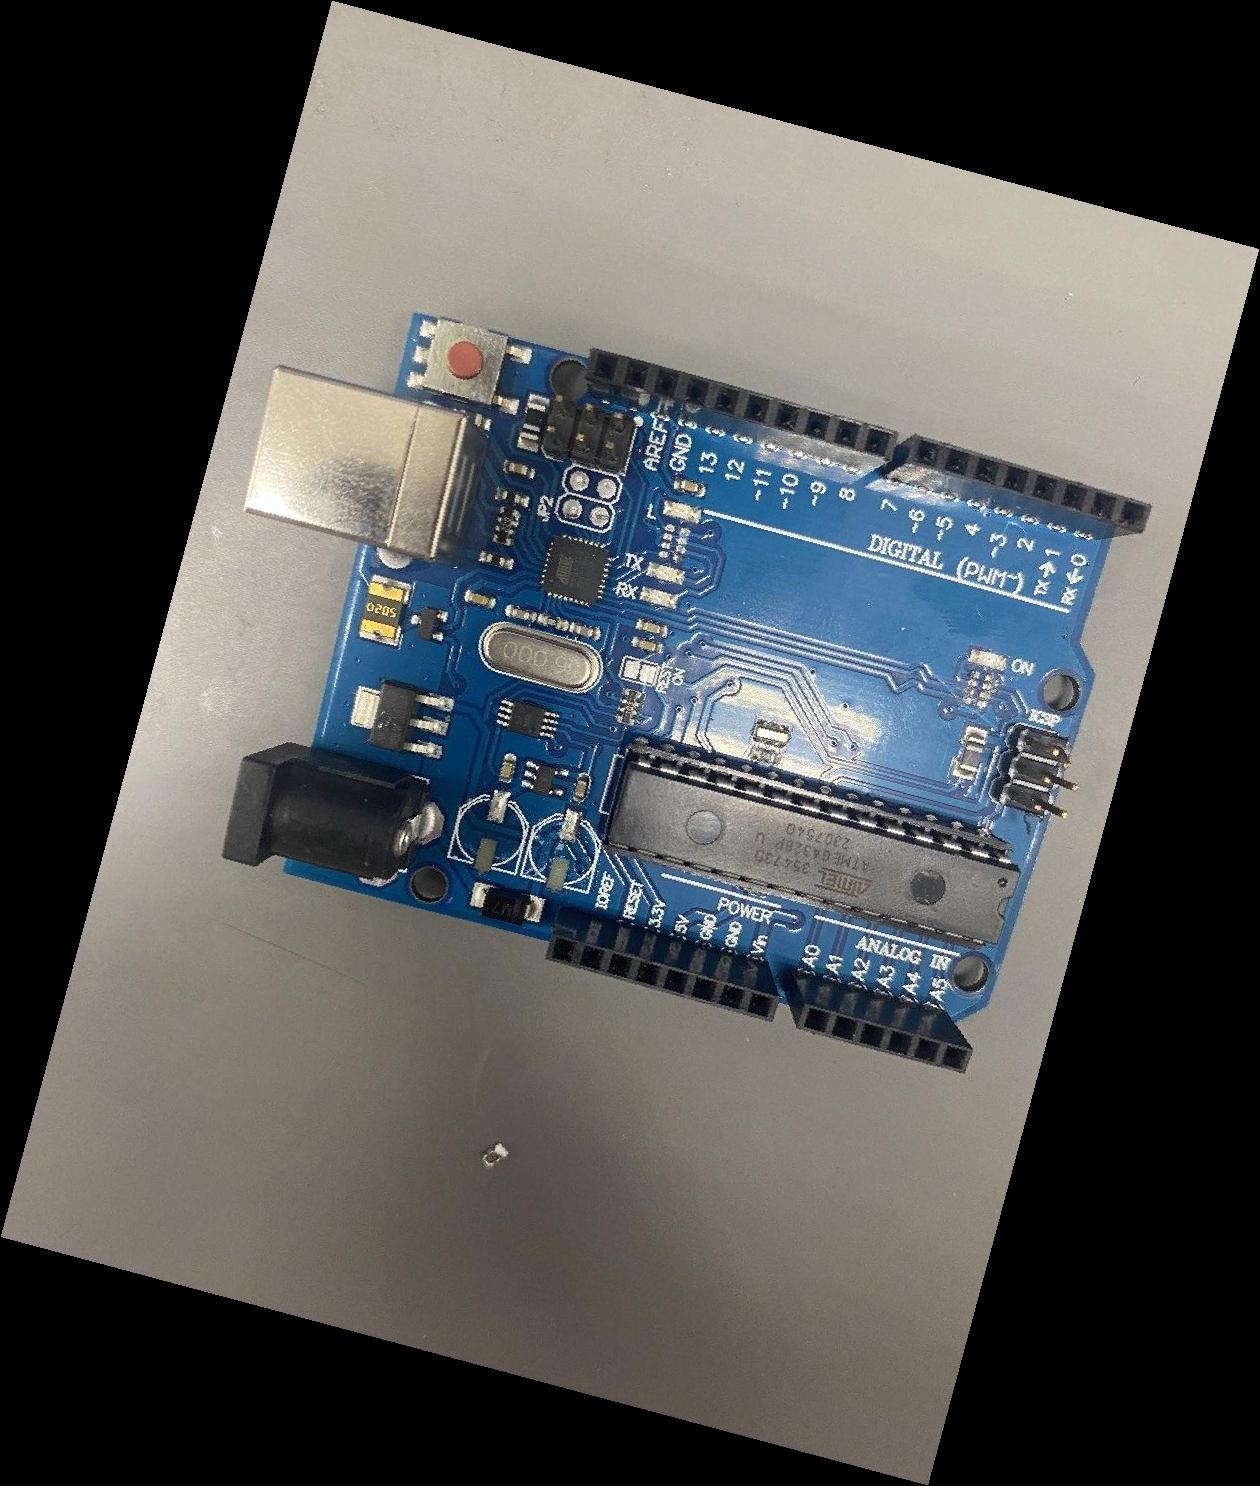ATmega328 chip: (602, 734, 1020, 950)
Arduino board: (222, 311, 1152, 1075)
USB: (242, 365, 490, 566)
pins: (584, 346, 897, 476), (881, 435, 1154, 541), (545, 907, 780, 1025), (784, 971, 972, 1075)
resistor: (334, 504, 677, 547), (459, 687, 800, 727)
